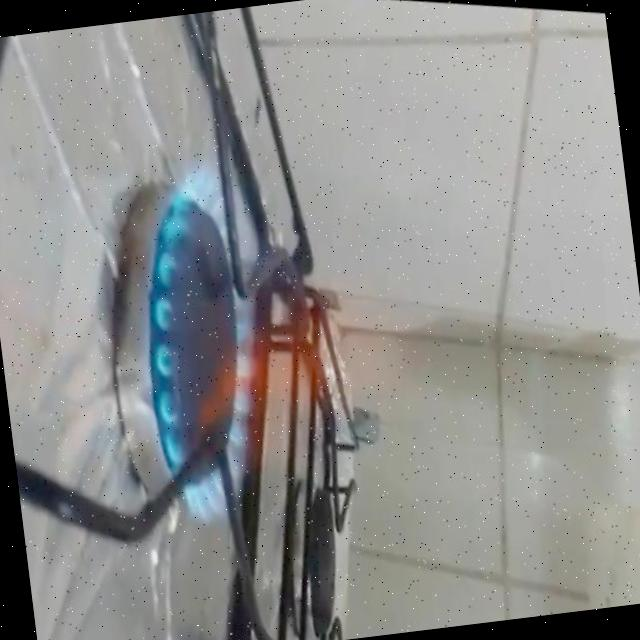fire: (100, 112, 448, 565)
